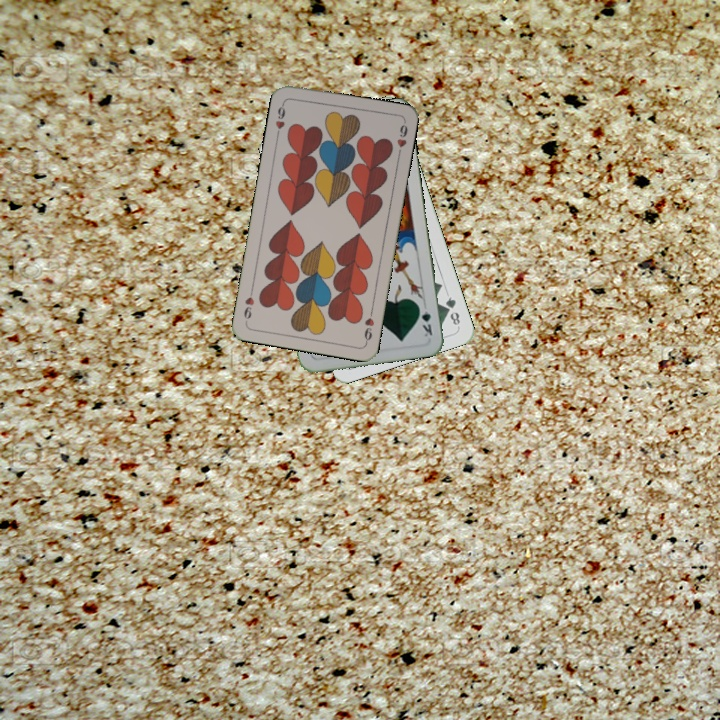G8: (441, 293, 463, 328)
GK: (415, 301, 435, 339)
H9: (271, 98, 288, 139), (360, 305, 377, 345)
